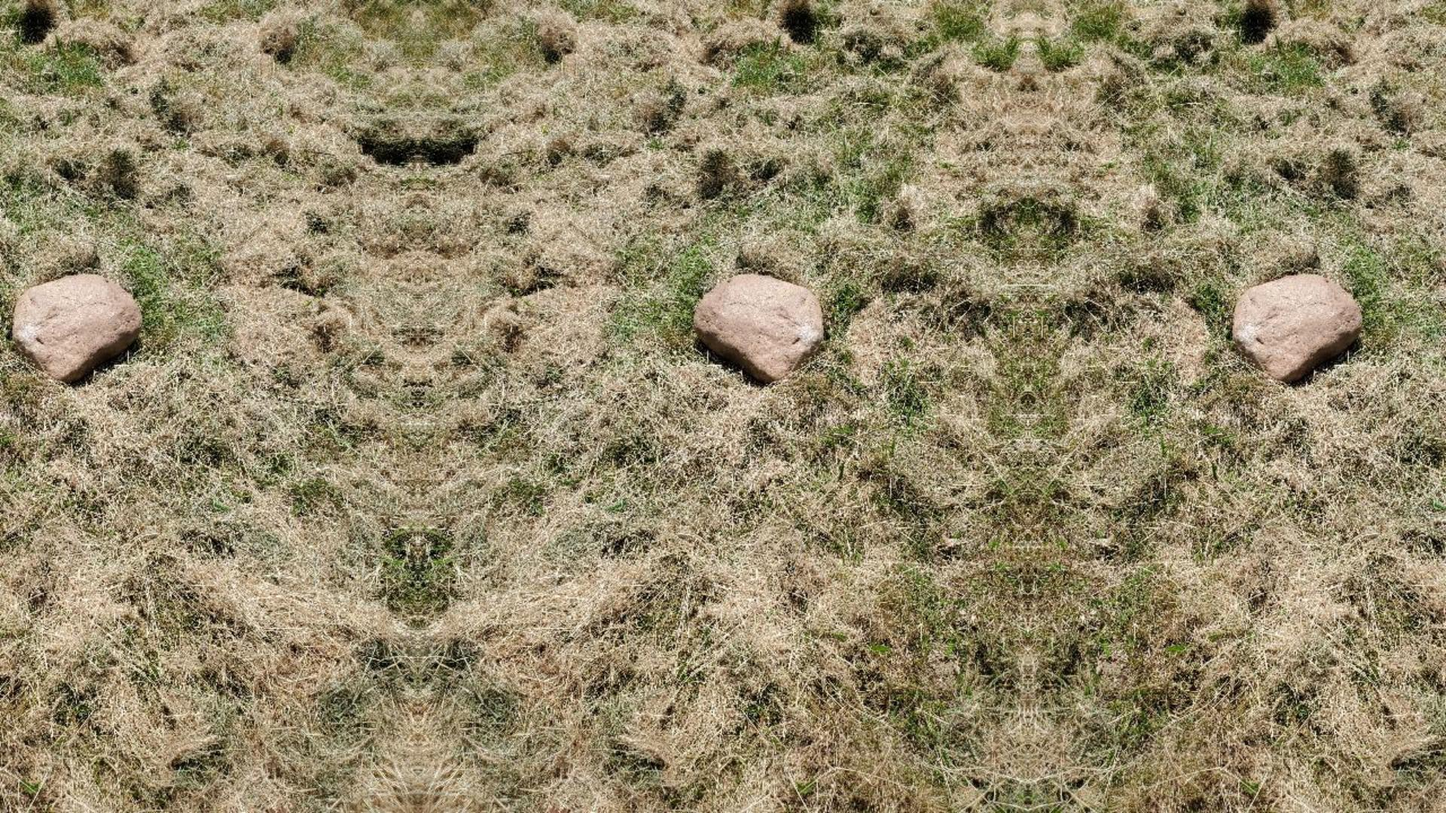rock: (694, 274, 822, 382), (12, 274, 140, 381), (1232, 274, 1360, 381)
